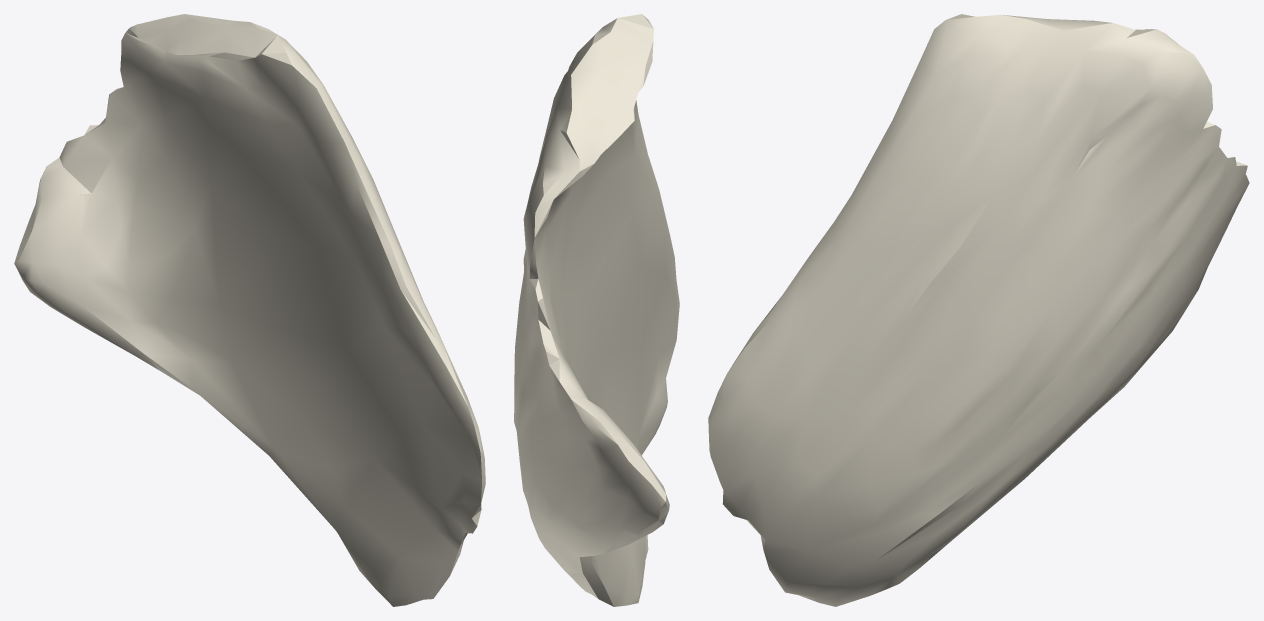
The model's file is fma326806-l_mm1479.glb.
The picture shows the model from 3 angles, left to right: view 1: azimuth 30°, elevation 25°; view 2: azimuth 150°, elevation 25°; view 3: azimuth 270°, elevation 25°; orthographic projection. The views are drawn at different scales.
Visible parts, largest first — view 1: FMA326806-L_MM1479; view 2: FMA326806-L_MM1479; view 3: FMA326806-L_MM1479.
Boxes of the visible parts, left/top/right/bottom form: FMA326806-L_MM1479: left=14, top=14, right=485, bottom=606; FMA326806-L_MM1479: left=514, top=14, right=679, bottom=606; FMA326806-L_MM1479: left=708, top=14, right=1249, bottom=606.
Size of the model in its own units: 0.00474 by 0.00973 by 0.00845.
